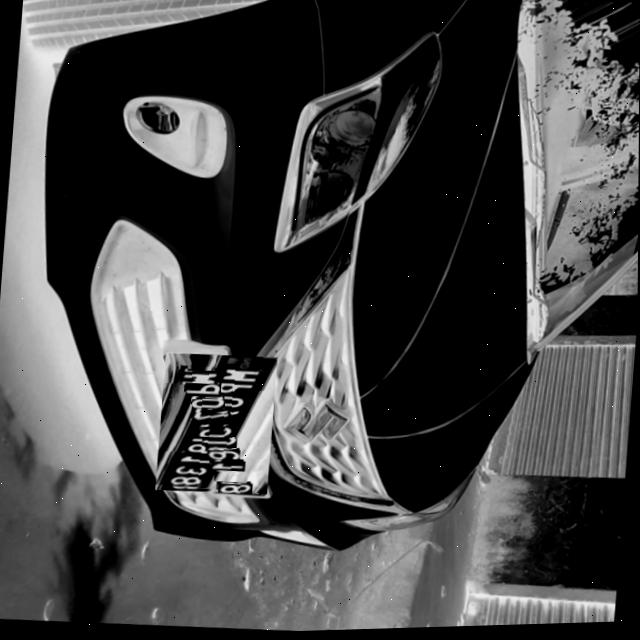0: (191, 399, 225, 412)
1: (209, 460, 244, 473)
3: (213, 472, 247, 484)
7: (190, 412, 231, 426)
8: (217, 483, 252, 495)
9: (207, 449, 240, 462)
C: (195, 425, 232, 439)
IND: (186, 356, 215, 375)
Indian_registered: (155, 356, 276, 491)
J: (201, 438, 236, 451)
M: (179, 369, 218, 388)
P: (183, 383, 220, 399)
